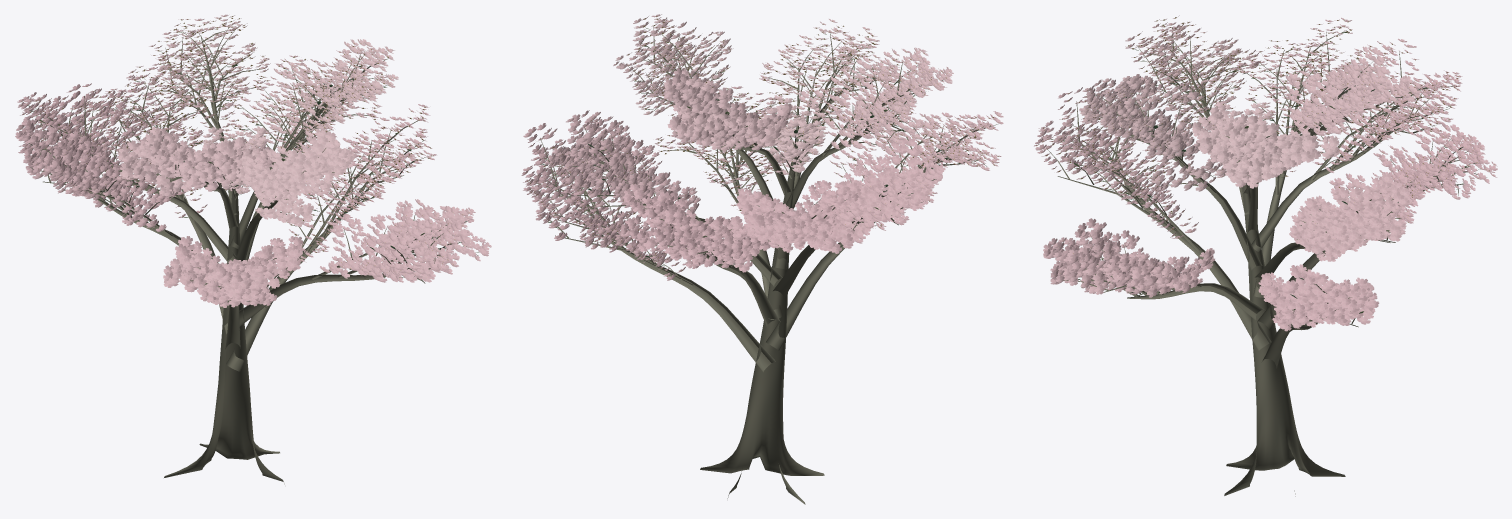
The picture shows the model from 3 angles, left to right: view 1: azimuth 30°, elevation 25°; view 2: azimuth 150°, elevation 25°; view 3: azimuth 270°, elevation 25°; orthographic projection. The views are drawn at different scales.
Parts seen in each view (by area): view 1: leaves, branches; view 2: leaves, branches; view 3: leaves, branches.
Boxes of the visible parts, <box> form: leaves: <box>15,14,491,307</box>; branches: <box>32,28,478,484</box>; leaves: <box>521,14,1003,280</box>; branches: <box>529,26,994,504</box>; leaves: <box>1034,15,1497,331</box>; branches: <box>1046,27,1486,496</box>.
Bounding box in the file's own units: 8.75 × 8.9 × 8.64.
